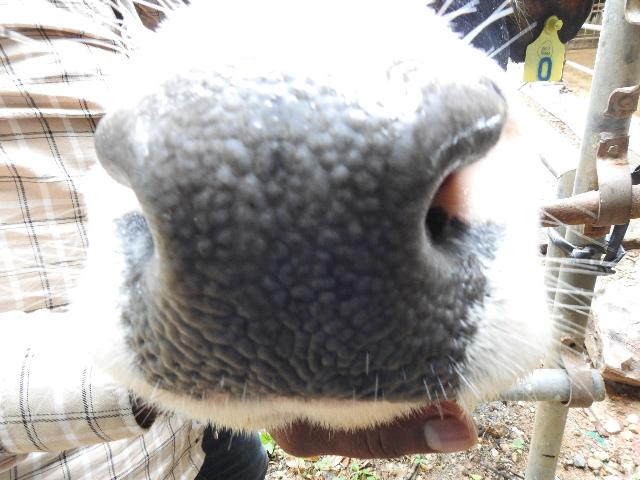Muzzle: (162, 105, 418, 391)
